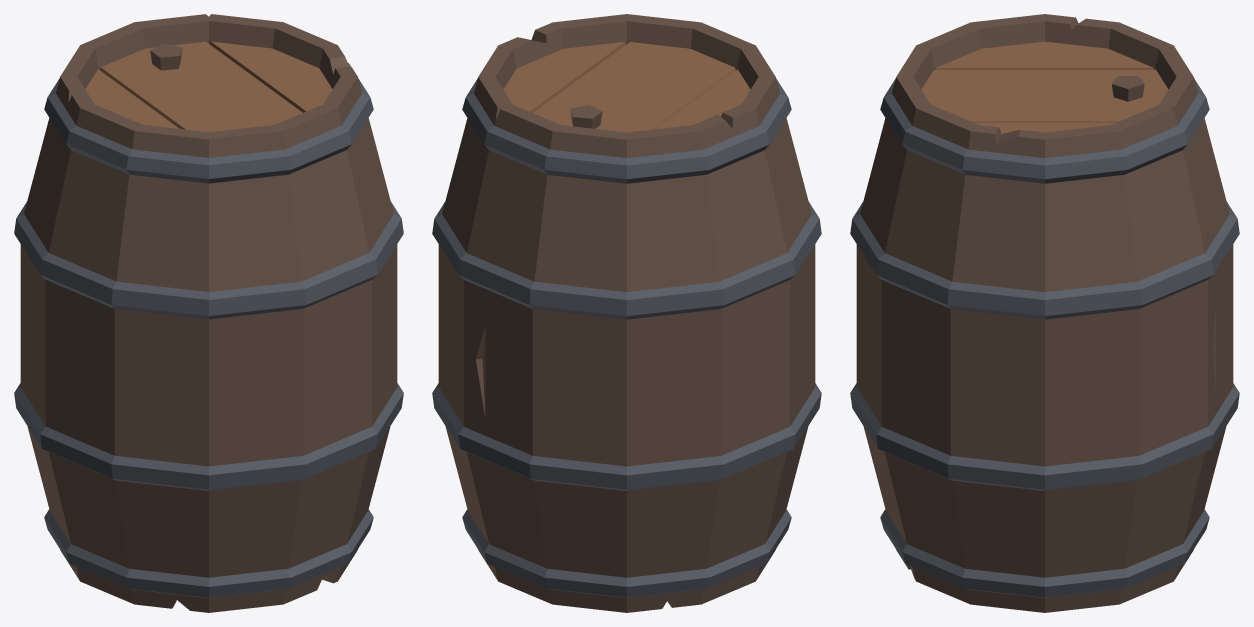
File: LargeBarrel.fbx
The picture shows the model from 3 angles, left to right: view 1: azimuth 30°, elevation 25°; view 2: azimuth 150°, elevation 25°; view 3: azimuth 270°, elevation 25°; orthographic projection.
Parts seen in each view (by area): view 1: LargeBarrel; view 2: LargeBarrel; view 3: LargeBarrel.
Part boxes in pixels (x1,y1,x2,y2): LargeBarrel: (14,14,403,612); LargeBarrel: (432,14,821,612); LargeBarrel: (850,14,1239,612).
Size of the model in its own units: 0.8075 by 0.8075 by 1.08.
